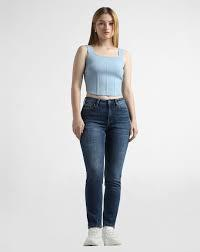jeans: (78, 97, 135, 231)
